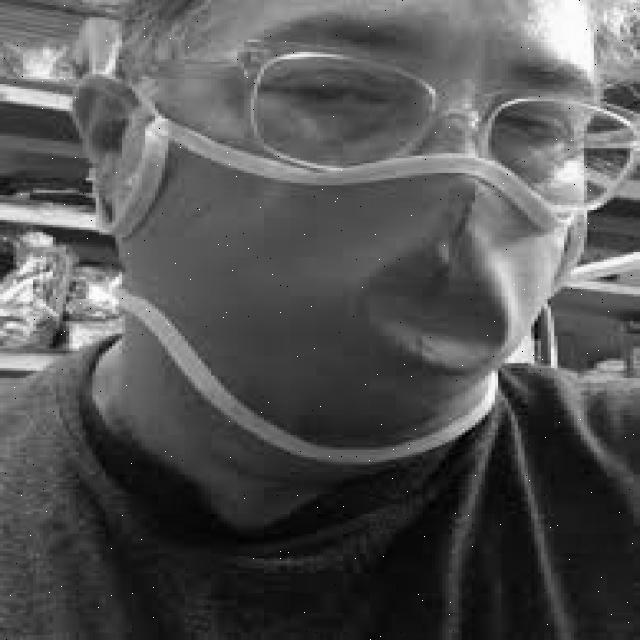fake: (112, 161, 590, 472)
real: (143, 0, 581, 469)
